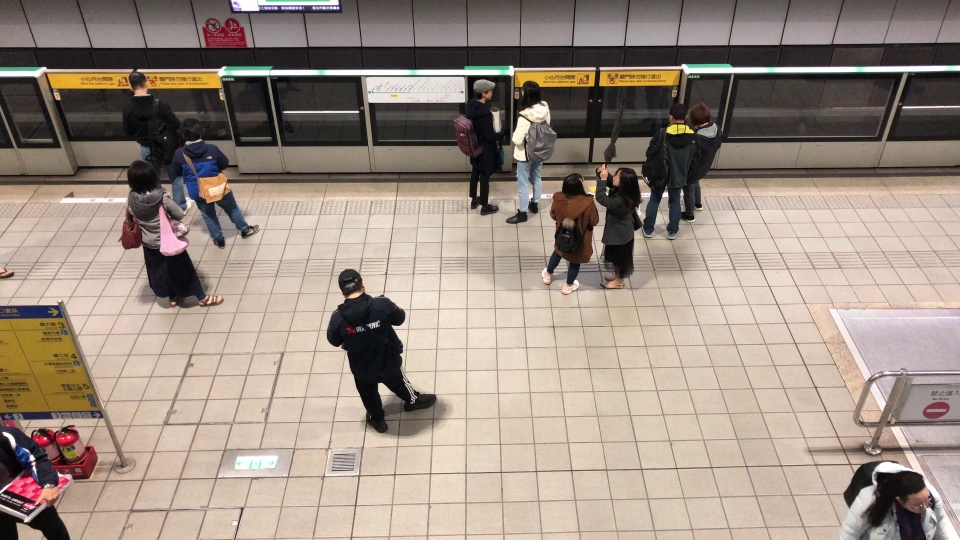person_head: (887, 463, 936, 520), (125, 159, 159, 193), (336, 267, 365, 300), (611, 165, 637, 192), (179, 115, 204, 143), (688, 99, 713, 127), (561, 171, 587, 196), (127, 69, 149, 95), (472, 79, 495, 102), (519, 80, 541, 103), (667, 101, 689, 123)
person_vbox: (325, 267, 438, 433), (116, 161, 223, 309), (171, 117, 261, 248), (121, 70, 192, 215), (839, 457, 951, 540), (594, 96, 642, 289), (1, 422, 72, 540), (641, 101, 701, 239), (504, 80, 557, 223), (452, 76, 505, 216), (540, 172, 600, 295), (680, 101, 723, 222)
